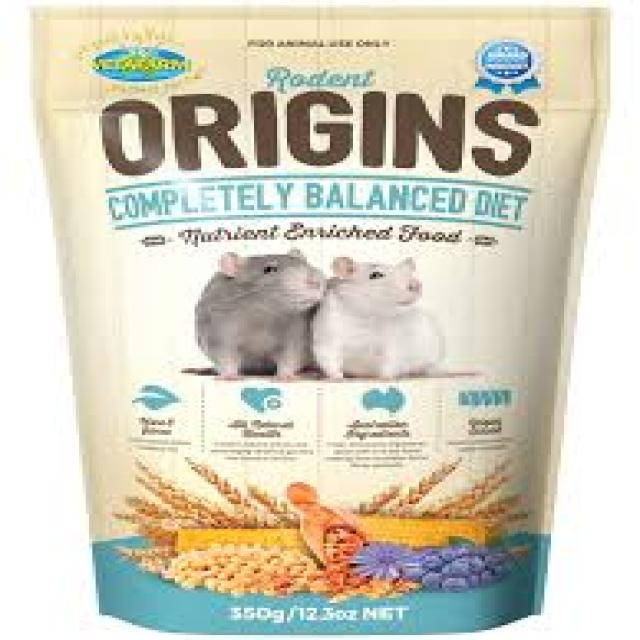rat: (307, 255, 478, 378), (191, 247, 327, 378)
